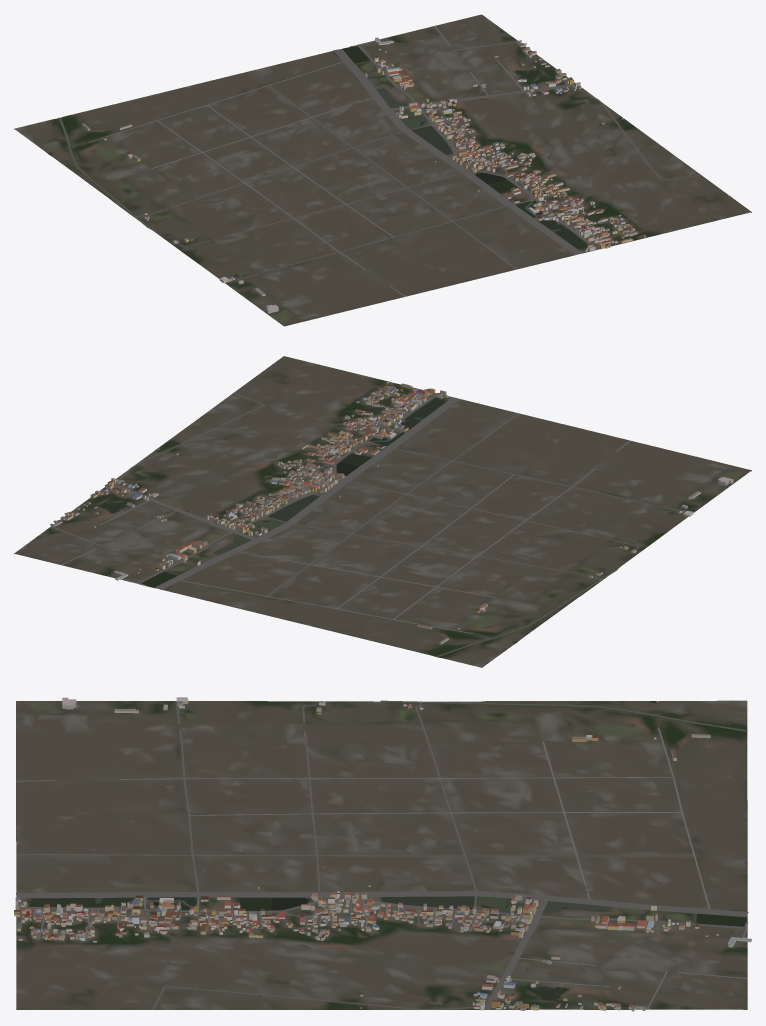
3 views of the same model, one above another, from view 1: azimuth 30°, elevation 25°; view 2: azimuth 150°, elevation 25°; view 3: azimuth 270°, elevation 25° (orthographic). The views are drawn at different scales.
Visible parts, largest first — view 1: ground, buildings, roads, water; view 2: ground, buildings, roads, water; view 3: ground, buildings, roads, water.
Boxes of the visible parts, x1,y1,x2,y2 form: ground: [14, 14, 751, 326]; buildings: [82, 37, 645, 313]; roads: [87, 25, 701, 296]; water: [48, 46, 587, 249]; ground: [14, 356, 751, 667]; buildings: [50, 381, 733, 644]; roads: [51, 387, 680, 634]; water: [100, 397, 617, 656]; ground: [16, 700, 747, 1009]; buildings: [14, 697, 751, 1011]; roads: [16, 701, 748, 1009]; water: [29, 700, 747, 1000].
Bounding box in the file's own units: 1412 × 22.67 × 1414.
